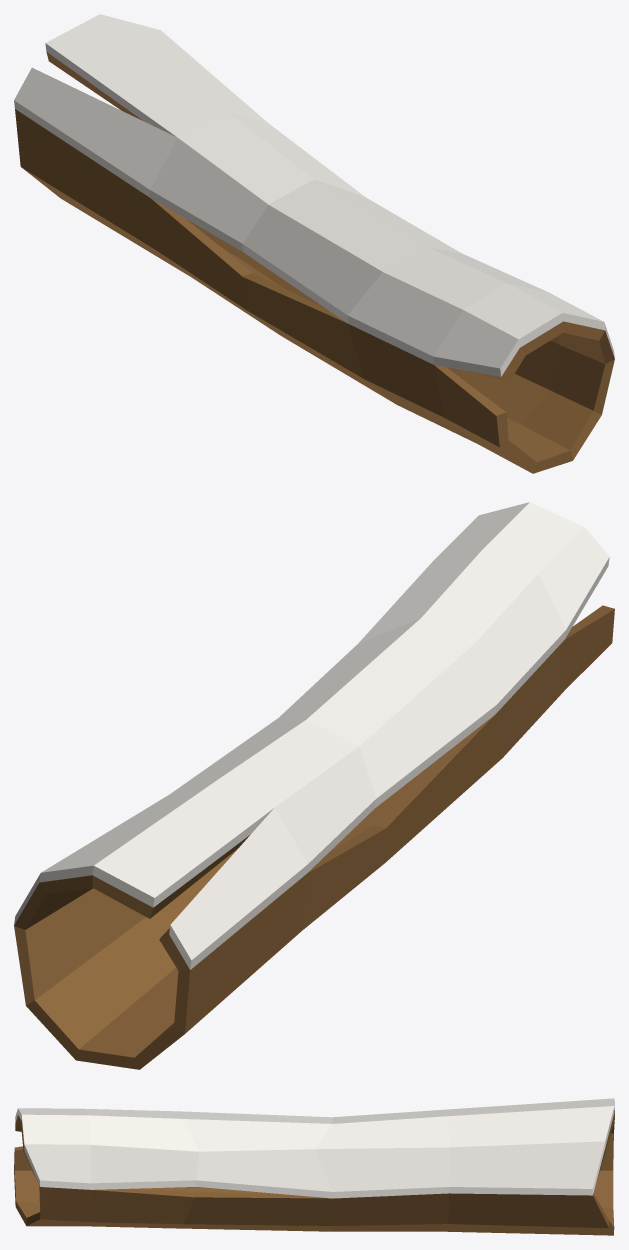
Rendered from WoodLog_Snow.glb.
3 views of the same model, one above another, from view 1: azimuth 30°, elevation 25°; view 2: azimuth 150°, elevation 25°; view 3: azimuth 270°, elevation 25° (orthographic). The views are drawn at different scales.
Visible parts, largest first — view 1: WoodLog_Snow; view 2: WoodLog_Snow; view 3: WoodLog_Snow.
Part boxes in pixels (<box>): WoodLog_Snow: <box>14,14,614,473</box>; WoodLog_Snow: <box>14,502,614,1069</box>; WoodLog_Snow: <box>14,1098,614,1235</box>.
Size of the model in its own units: 0.6267 by 0.5842 by 2.49.
